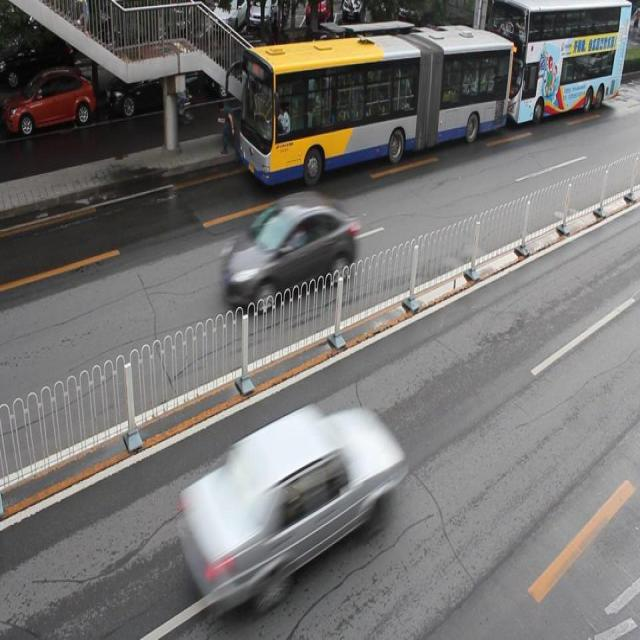car: (176, 403, 394, 598), (220, 191, 355, 309), (1, 68, 96, 135), (104, 54, 198, 112), (207, 36, 277, 100), (291, 38, 363, 96)
van: (241, 21, 512, 178), (485, 1, 630, 119)
